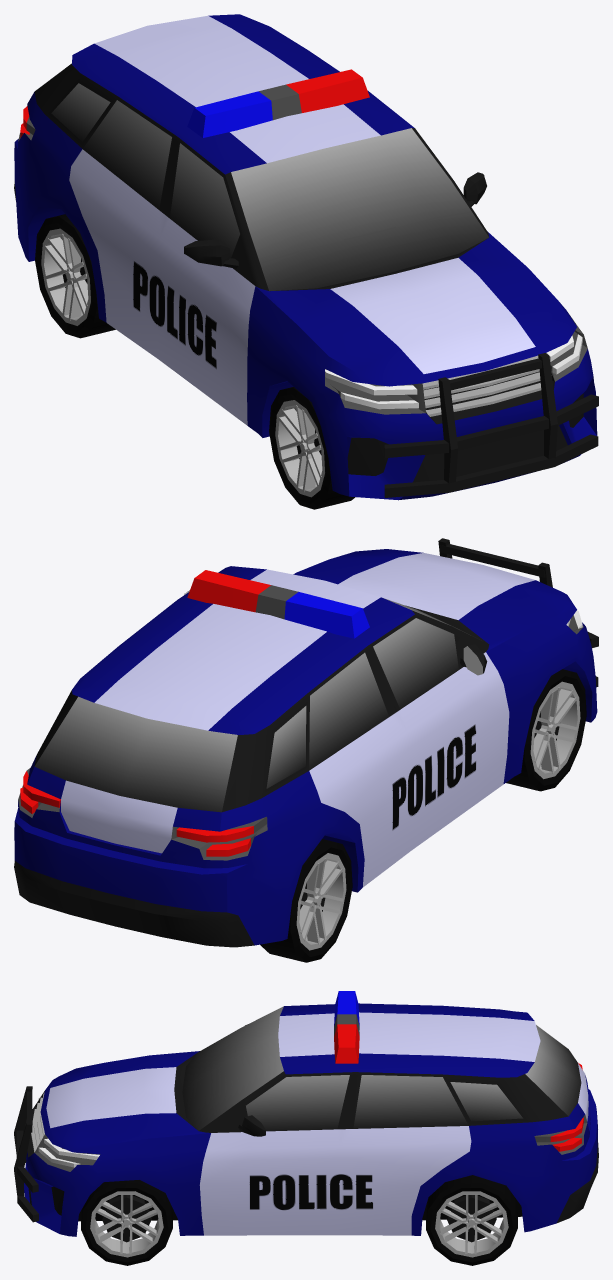
The model's file is police 3.fbx.
3 views of the same model, one above another, from view 1: azimuth 30°, elevation 25°; view 2: azimuth 150°, elevation 25°; view 3: azimuth 270°, elevation 25° (orthographic). The views are drawn at different scales.
Parts seen in each view (by area): view 1: Plane, Plane.001, Cylinder.003, Cylinder.002, Plane.002; view 2: Plane, Cylinder.003, Cylinder.002, Plane.002, Plane.001; view 3: Plane, Cylinder.001, Cylinder, Plane.001, Plane.002.
Boxes of the visible parts, bbox=[...] form: Plane: bbox=[14, 14, 597, 500]; Plane.001: bbox=[384, 353, 598, 497]; Cylinder.003: bbox=[35, 214, 115, 338]; Cylinder.002: bbox=[269, 387, 355, 509]; Plane.002: bbox=[187, 69, 369, 137]; Plane: bbox=[14, 549, 597, 947]; Cylinder.003: bbox=[260, 839, 352, 962]; Cylinder.002: bbox=[506, 669, 586, 791]; Plane.002: bbox=[187, 570, 369, 638]; Plane.001: bbox=[438, 538, 598, 687]; Plane: bbox=[24, 1003, 598, 1236]; Cylinder.001: bbox=[426, 1175, 517, 1265]; Cylinder: bbox=[81, 1180, 172, 1265]; Plane.001: bbox=[14, 1086, 38, 1222]; Plane.002: bbox=[334, 991, 359, 1063].
Size of the model in its own units: 88.87 by 77.35 by 204.
1 material, 1 textured.
